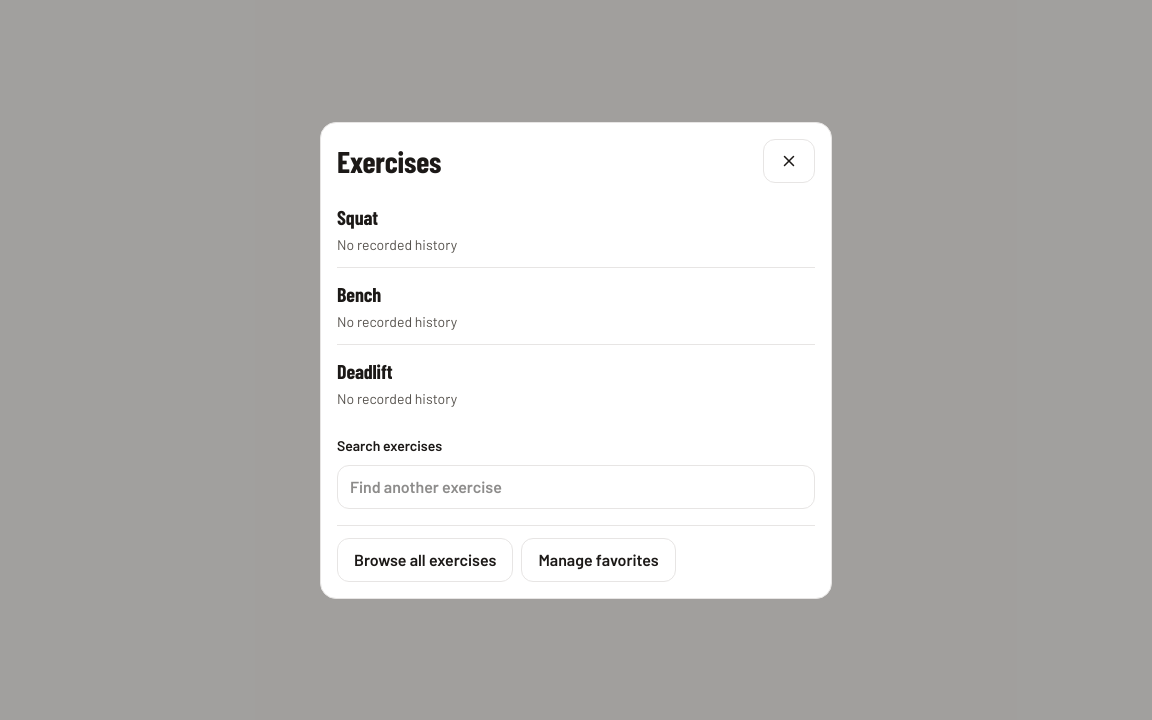
bounded graph exercise chooser › searches all history in bounded pages and restores the primary lifts when cleared
This screenshot has width=1152, height=720.
Type "row" into the search field at (576, 486), box left=337, top=464, right=815, bottom=508
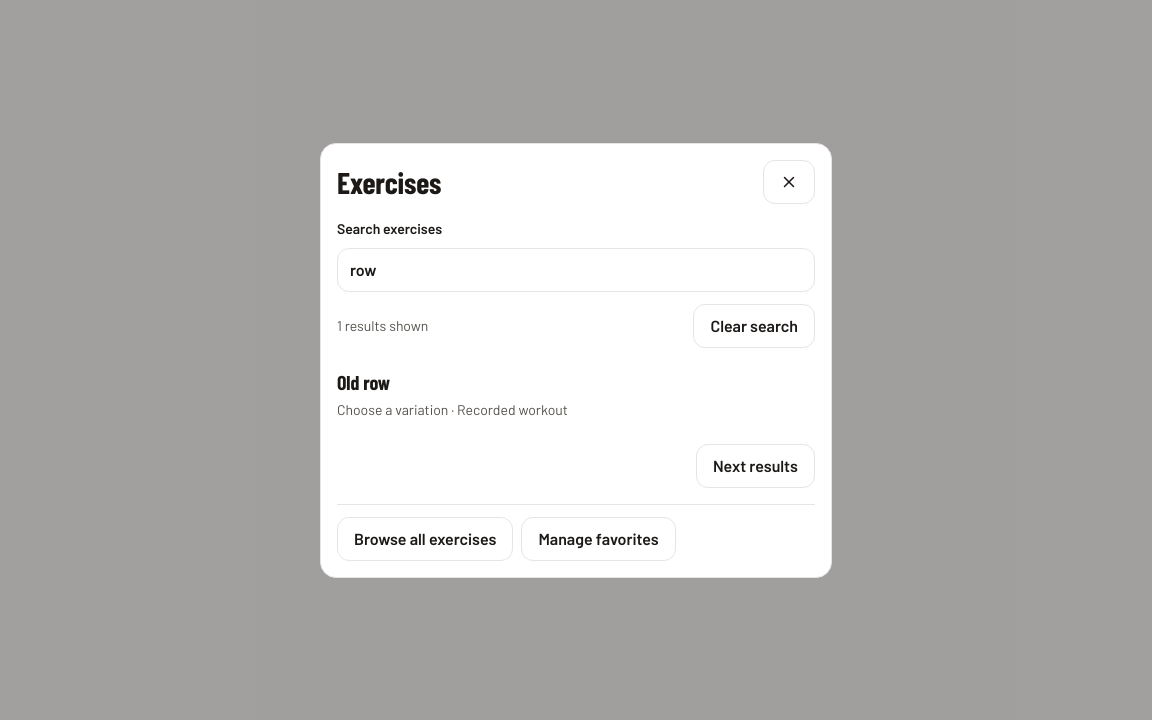
Check: the text "Old row" is shown, box left=337, top=370, right=390, bottom=394
Click the button "Next results" at (755, 466), box left=696, top=444, right=815, bottom=488
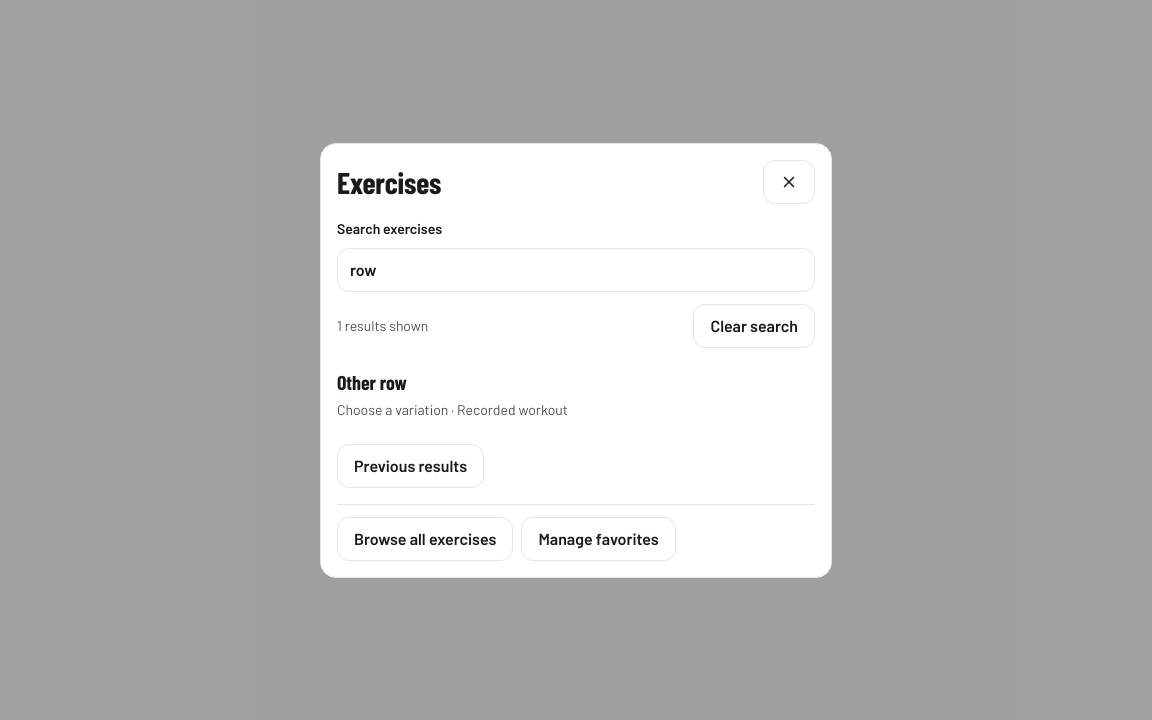
Check: the text "Other row" is shown, box left=337, top=370, right=407, bottom=394
Check: the button "Old row" is gone
Click the button "Clear search" at (754, 326), box left=693, top=304, right=815, bottom=348
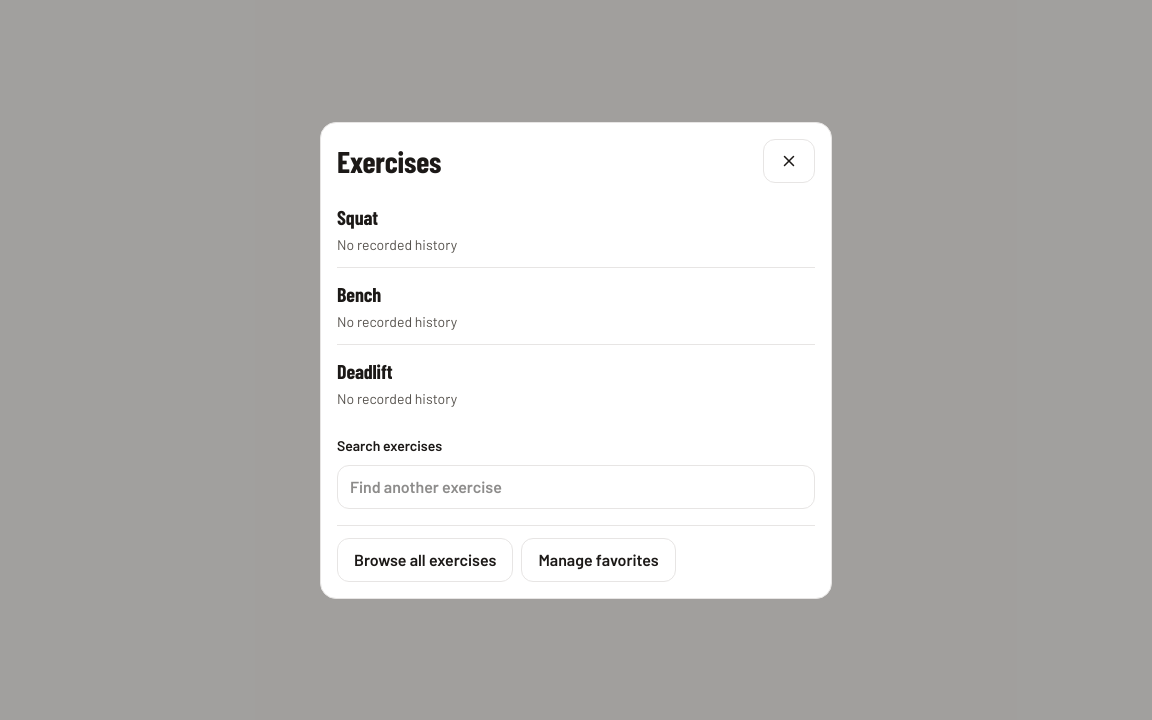
Check: the number of buttons with test id "exercise-choice" is 3, box left=337, top=190, right=815, bottom=266; left=337, top=268, right=815, bottom=344; left=337, top=344, right=815, bottom=420
Check: the button "Squat No recorded history" is shown, box left=337, top=190, right=815, bottom=266
Check: the button "Other row" is gone
